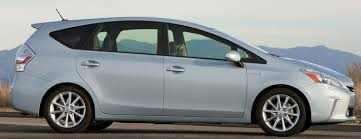Toyota: (15, 15, 353, 129)
